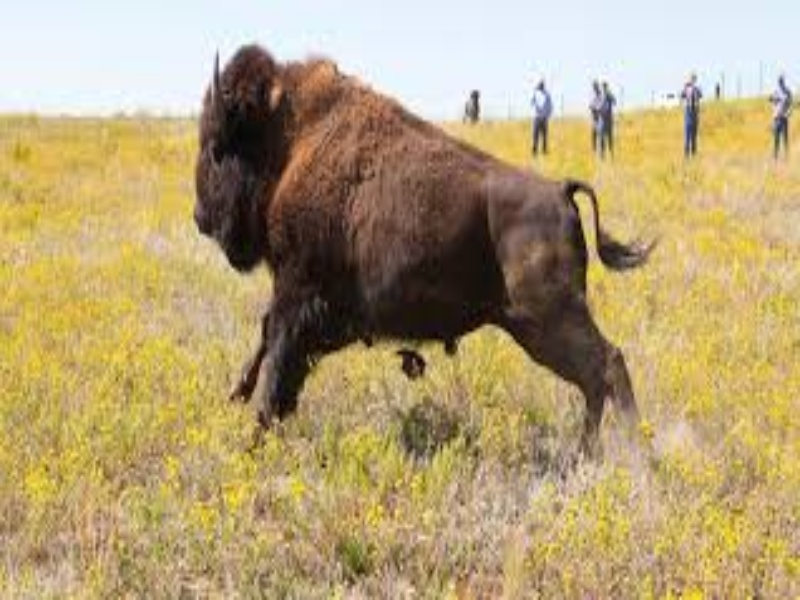buffalo: (174, 36, 665, 476)
